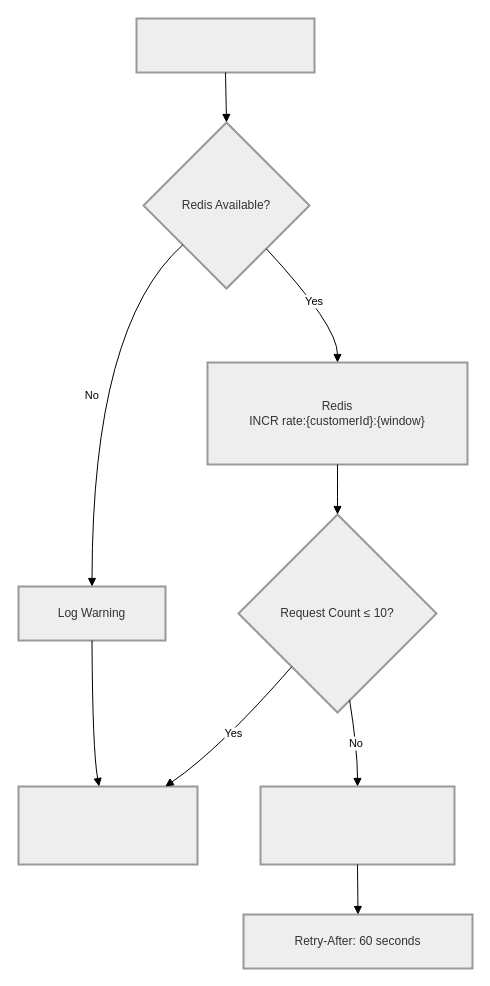
Some shapes in this 490 by 986 pixel diagram are drawn without their labels. Each missing label, with the centre of its shape:
"Allow Request Process Payment" belongs at point 107,825.
"HTTP 429 Too Many Requests" belongs at point 357,825.
"POST /payments" belongs at point 225,45.
